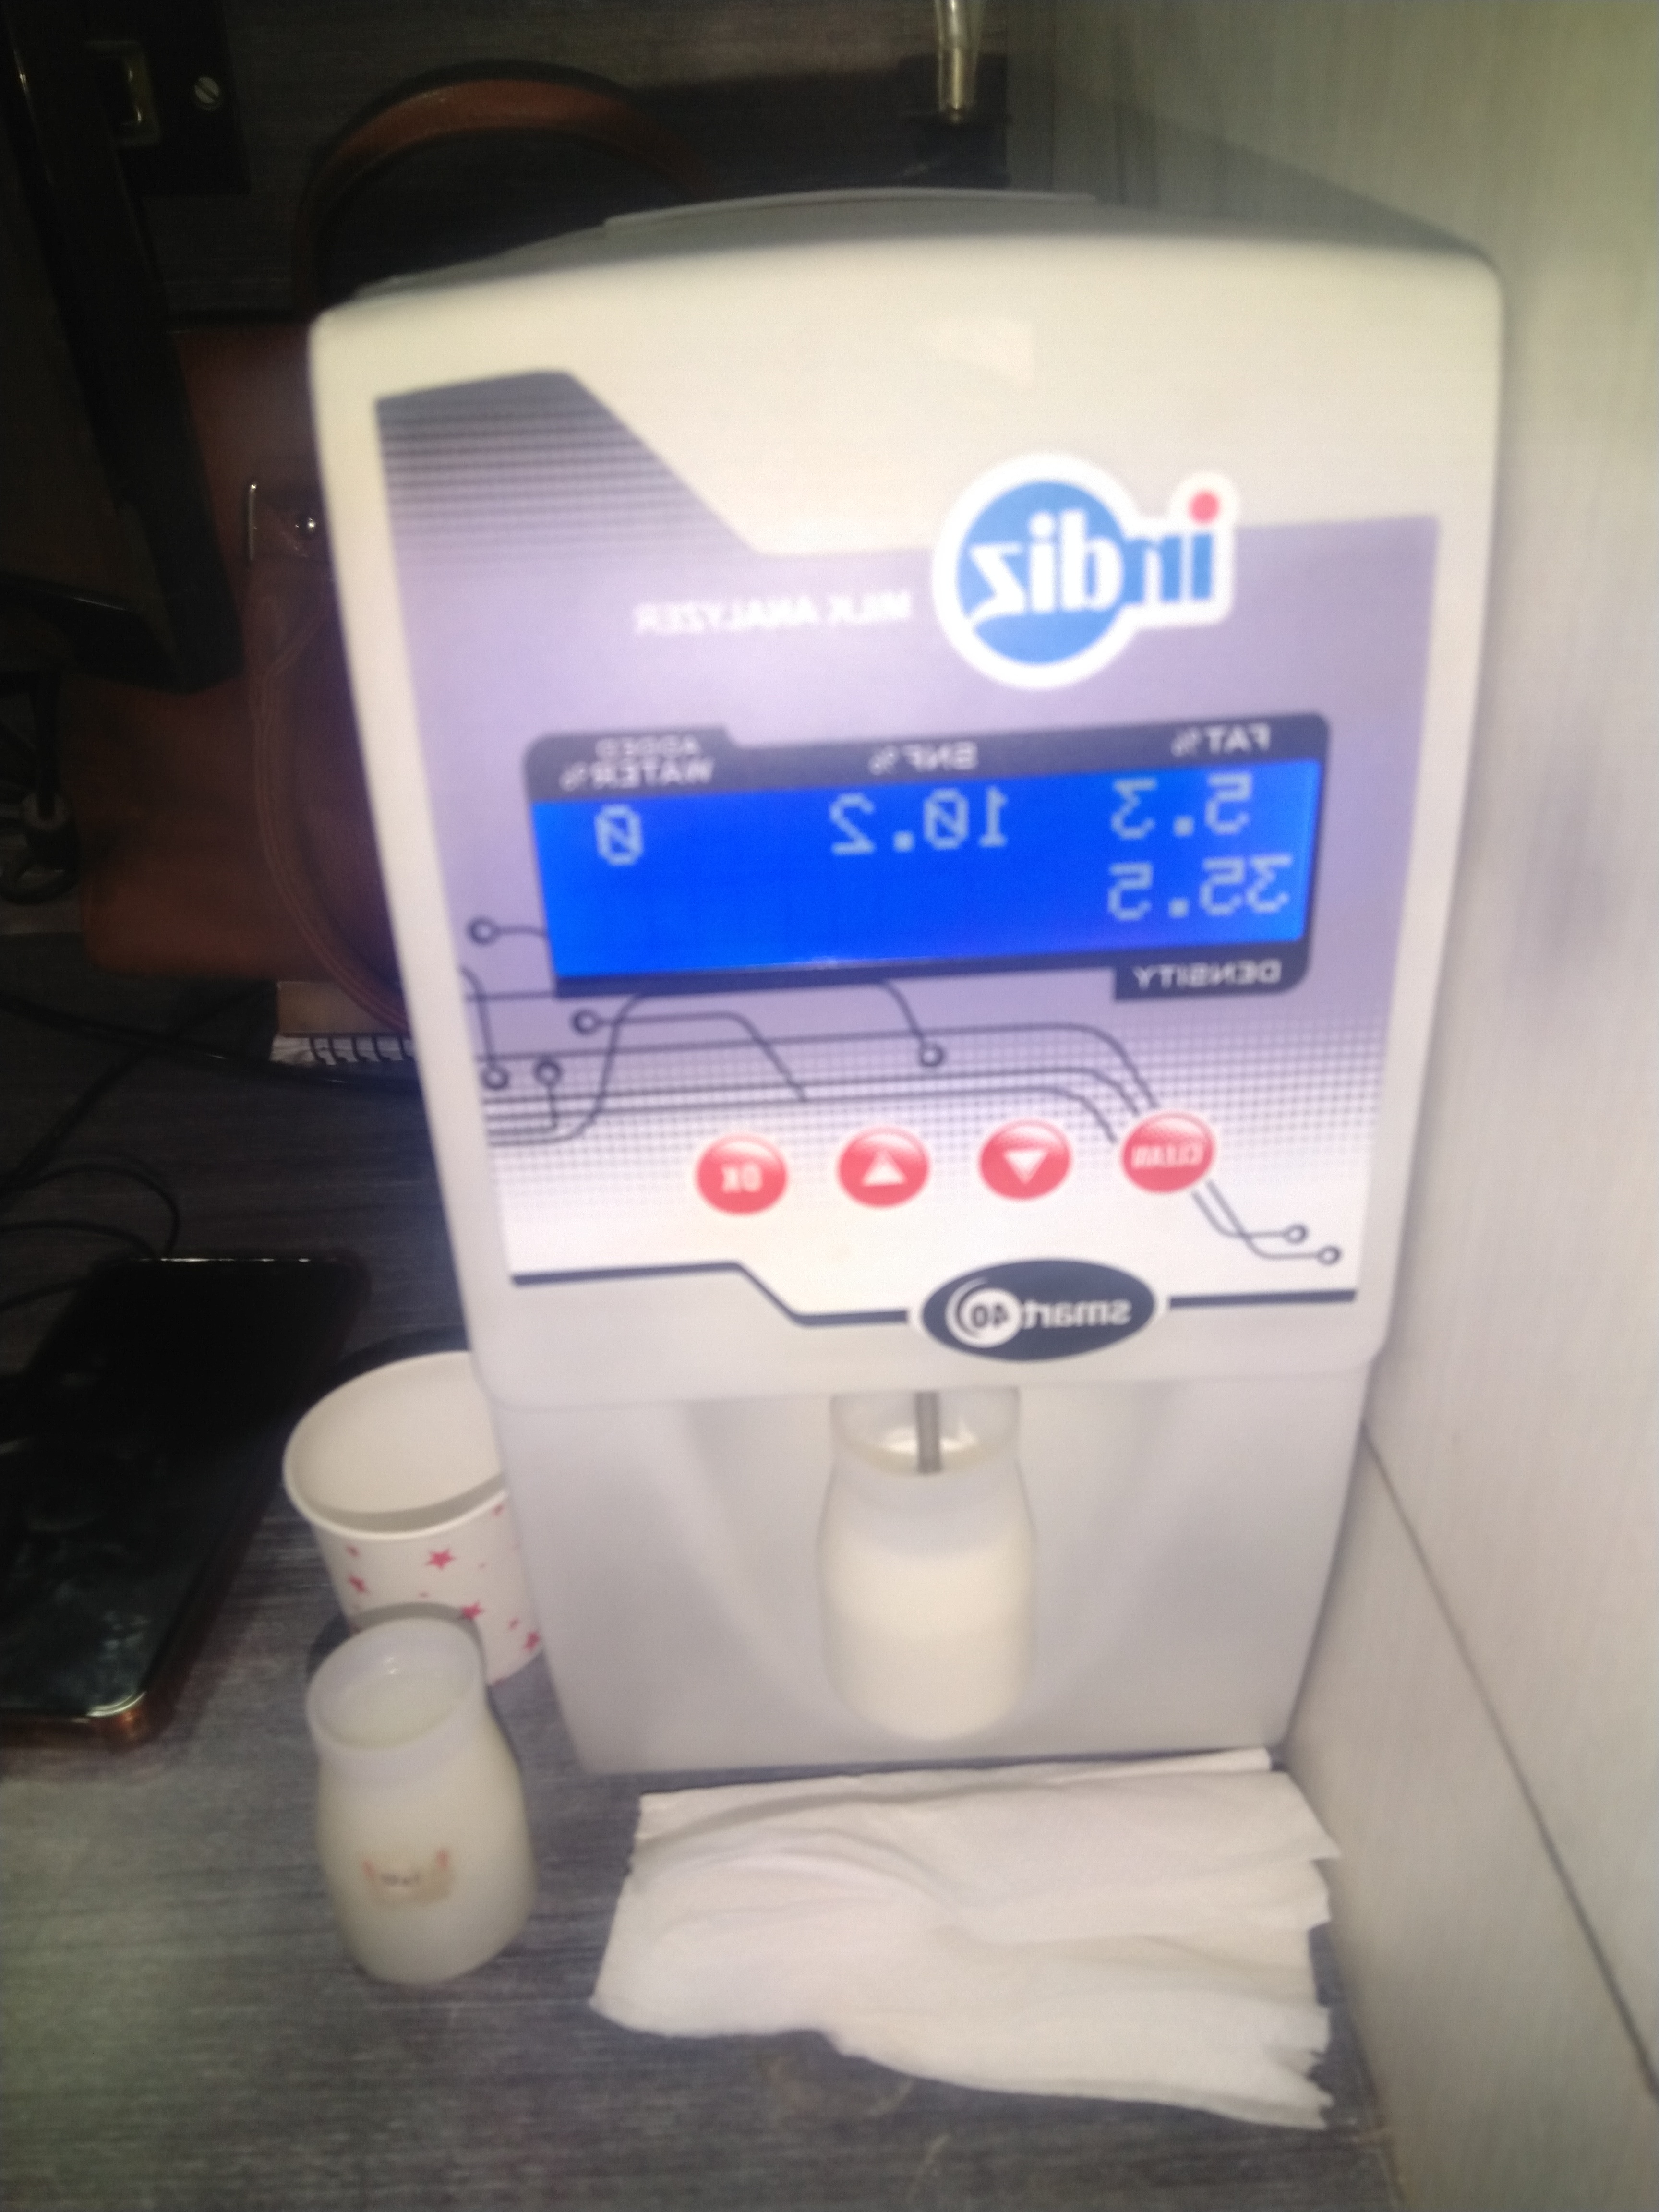lcd: (516, 752, 1324, 989)
